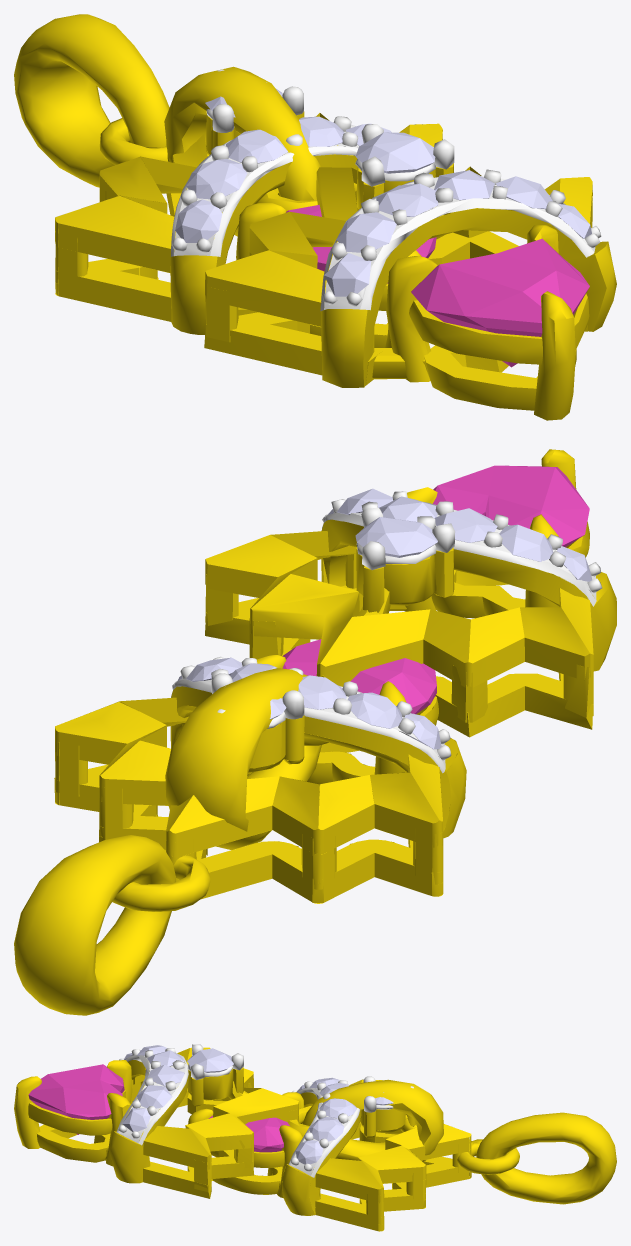
The model's file is DPN-D000733354.glb.
3 renders of one model, top to bottom at view 1: azimuth 30°, elevation 25°; view 2: azimuth 150°, elevation 25°; view 3: azimuth 270°, elevation 25°, orthographic. The views are drawn at different scales.
Parts seen in each view (by area): view 1: lowPolyMesh, highPolyMesh; view 2: lowPolyMesh, highPolyMesh; view 3: lowPolyMesh, highPolyMesh.
Part boxes in pixels (x1=…): lowPolyMesh: x1=164, y1=66, x2=616, y2=420; highPolyMesh: x1=14, y1=14, x2=444, y2=347; lowPolyMesh: x1=165, y1=449, x2=616, y2=849; highPolyMesh: x1=14, y1=639, x2=466, y2=1015; lowPolyMesh: x1=14, y1=1044, x2=443, y2=1198; highPolyMesh: x1=188, y1=1076, x2=616, y2=1231.
Bounding box in the file's own units: 0.01 × 0.00636 × 0.0236.
